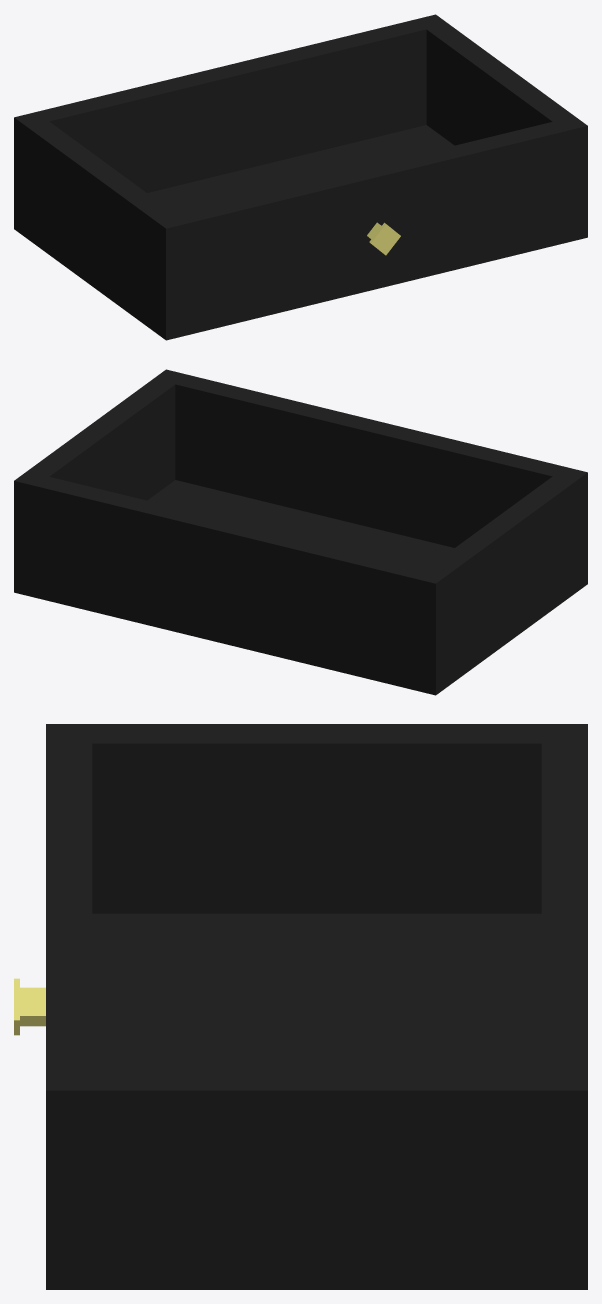
Rendered from Itr_Bed_Bunk2_Drawer3_02.FBX.
The picture shows the model from 3 angles, top to bottom: view 1: azimuth 30°, elevation 25°; view 2: azimuth 150°, elevation 25°; view 3: azimuth 270°, elevation 25°; orthographic projection. The views are drawn at different scales.
Parts seen in each view (by area): view 1: Itr_Bed_Bunk2_Drawer3_02; view 2: Itr_Bed_Bunk2_Drawer3_02; view 3: Itr_Bed_Bunk2_Drawer3_02.
Part boxes in pixels (bbox=[...]): Itr_Bed_Bunk2_Drawer3_02: bbox=[14, 14, 587, 340]; Itr_Bed_Bunk2_Drawer3_02: bbox=[14, 369, 587, 695]; Itr_Bed_Bunk2_Drawer3_02: bbox=[14, 724, 587, 1289].
Bounding box in the file's own units: 62.85 × 15.91 × 41.58.
